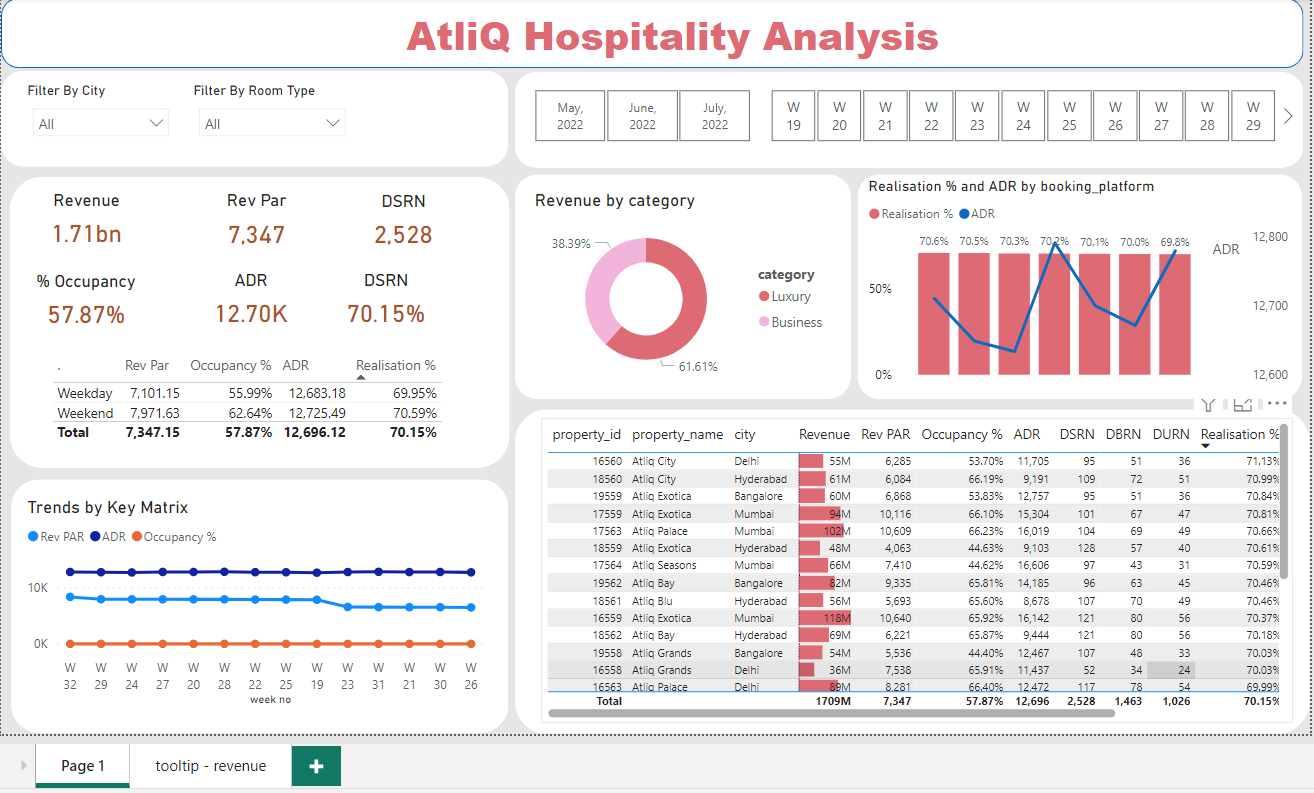

This screenshot's page, from the dashboard's own definition file:
{"tool":"powerbi","page":{"name":"Page 1","canvas":[1280,720],"ordinal":0},"visuals":[{"type":"shape","box":[8.6,174.8,489,284.8],"z":1000},{"type":"shape","box":[502.4,402.2,777.5,317.8],"z":1500},{"type":"shape","box":[502.4,72.1,771.3,94.1],"z":2000},{"type":"slicer","fields":{"Values":["dim_date.week no"]},"box":[727.3,83.1,542.8,63.6],"z":3000},{"type":"shape","box":[0,70.9,496.3,94.1],"z":4000},{"type":"tableEx","fields":{"Values":["dim_hotels.property_id","dim_hotels.property_name","dim_hotels.city","key_measures.Revenue","key_measures.Rev per available room","key_measures.Occupancy %","key_measures.Average Daily Rate","key_measures.DSRN","key_measures.DBRN","key_measures.DURN","key_measures.Realisation %","key_measures.Cancellation %"]},"box":[528.1,410.7,735.9,298.3],"z":5000},{"type":"slicer","title":"Filter By Room Type","fields":{"Values":["dim_rooms.room_class"]},"box":[183.1,83.1,163.6,72.7],"z":6000},{"type":"slicer","title":"Filter By City","fields":{"Values":["dim_hotels.city"]},"box":[20.8,83.1,153.2,72.7],"z":7000},{"type":"card","title":"Revenue","fields":{"Values":["key_measures.Revenue"]},"box":[22,187,123.5,66],"z":8000},{"type":"slicer","fields":{"Values":["dim_date.mmm yy"]},"box":[496.3,83.1,272.6,63.6],"z":9000},{"type":"shape","box":[502.4,172.4,328.8,220],"z":10000},{"type":"donutChart","fields":{"Category":["dim_hotels.category"],"Y":["key_measures.Revenue"]},"box":[517.1,187,301.9,195.6],"z":11000},{"type":"shape","box":[9.8,470.6,486.5,248.1],"z":12000},{"type":"card","title":"Rev Par","fields":{"Values":["key_measures.Rev per available room"]},"box":[187,187,125.9,68.5],"z":13000},{"type":"card","title":"DSRN","fields":{"Values":["key_measures.DSRN"]},"box":[332.5,188.3,122.2,66],"z":14000},{"type":"card","title":"% Occupancy","fields":{"Values":["key_measures.Occupancy %"]},"box":[22,266.5,122.2,64.8],"z":15000},{"type":"card","title":"ADR","fields":{"Values":["key_measures.Average Daily Rate"]},"box":[183.4,265.3,122.2,66],"z":16000},{"type":"card","title":"DSRN","fields":{"Values":["key_measures.Realisation %"]},"box":[315.4,265.3,122.2,66],"z":17000},{"type":"tableEx","fields":{"Values":["dim_date.date_type","key_measures.Rev per available room","key_measures.Occupancy %","key_measures.Average Daily Rate","key_measures.Realisation %"]},"box":[44,344.7,410.7,95.3],"z":18000},{"type":"lineChart","title":"Trends by Key Matrix","fields":{"Y":["key_measures.Rev per available room","key_measures.Average Daily Rate","key_measures.Occupancy %"],"Category":["dim_date.week no"]},"box":[20.8,487.7,457.2,209],"z":19000},{"type":"shape","box":[837.4,172.4,435.2,220],"z":20000},{"type":"lineStackedColumnComboChart","fields":{"Y":["key_measures.Realisation %"],"Y2":["key_measures.ADR"],"Category":["fact_bookings.booking_platform"]},"box":[843.5,174.8,420.5,207.8],"z":21000},{"type":"shape","box":[0,0,1273.8,68.5],"z":21001},{"type":"textbox","box":[366.7,4.9,599,63.6],"z":21002}]}

Visuals, with their boxes on the page's 1280x720 design canvas (x1, y1, x2, y2). These are canvas units, not pixel positions in the 1314x793 screenshot, which may show the page scaled, cropped or inside an application window:
shape: rect(9, 175, 498, 460)
shape: rect(502, 402, 1280, 720)
shape: rect(502, 72, 1274, 166)
slicer - dim_date.week no: rect(727, 83, 1270, 147)
shape: rect(0, 71, 496, 165)
tableEx - dim_hotels.property_id x dim_hotels.property_name: rect(528, 411, 1264, 709)
"Filter By Room Type" slicer: rect(183, 83, 347, 156)
"Filter By City" slicer: rect(21, 83, 174, 156)
"Revenue" card: rect(22, 187, 146, 253)
slicer - dim_date.mmm yy: rect(496, 83, 769, 147)
shape: rect(502, 172, 831, 392)
donutChart - dim_hotels.category x key_measures.Revenue: rect(517, 187, 819, 383)
shape: rect(10, 471, 496, 719)
"Rev Par" card: rect(187, 187, 313, 256)
"DSRN" card: rect(332, 188, 455, 254)
"% Occupancy" card: rect(22, 266, 144, 331)
"ADR" card: rect(183, 265, 306, 331)
"DSRN" card: rect(315, 265, 438, 331)
tableEx - dim_date.date_type x key_measures.Rev per available room: rect(44, 345, 455, 440)
"Trends by Key Matrix" lineChart: rect(21, 488, 478, 697)
shape: rect(837, 172, 1273, 392)
lineStackedColumnComboChart - key_measures.Realisation % x key_measures.ADR: rect(844, 175, 1264, 383)
shape: rect(0, 0, 1274, 68)
textbox: rect(367, 5, 966, 68)
